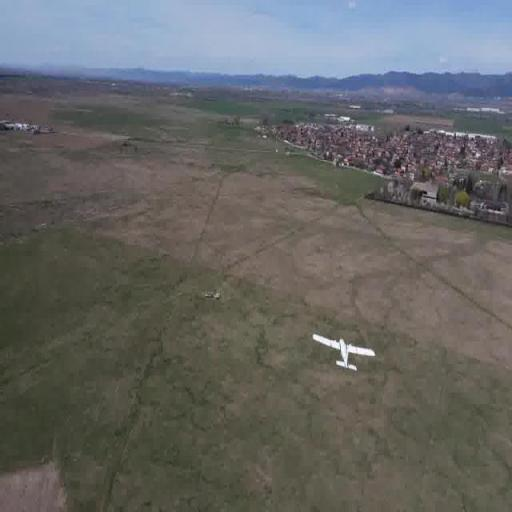uav: (311, 329, 378, 380)
